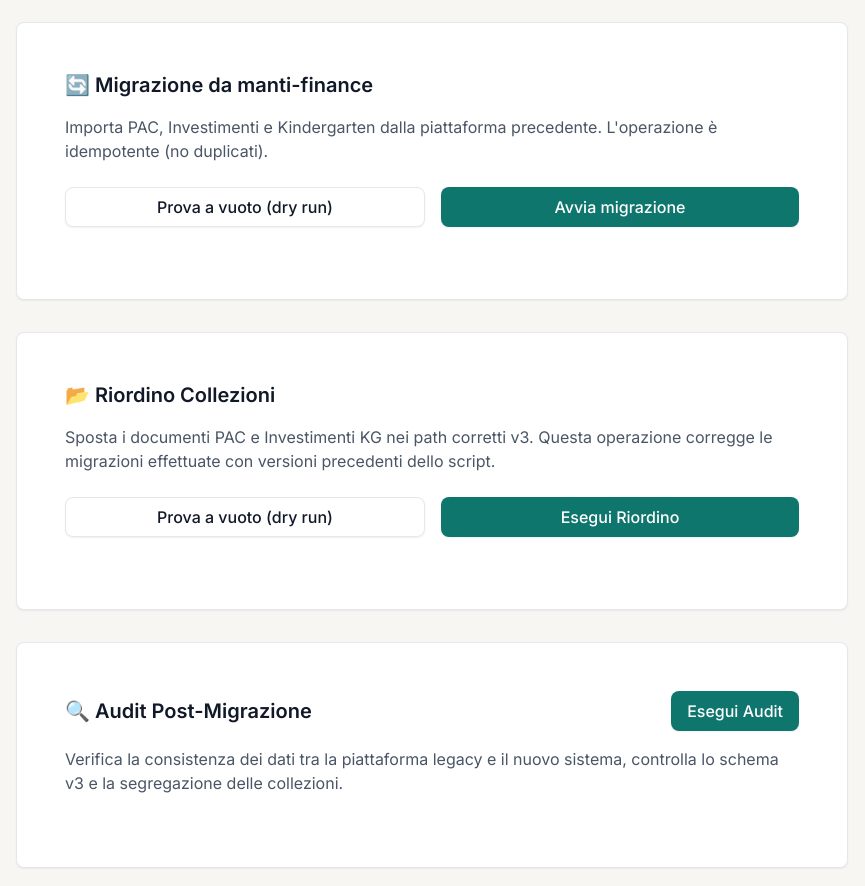
Test: AdminPage › runs migration audit and displays result
(page scrolled)
Click the button "Esegui Audit" at (735, 711), box 671,691 -> 799,731
(page scrolled)
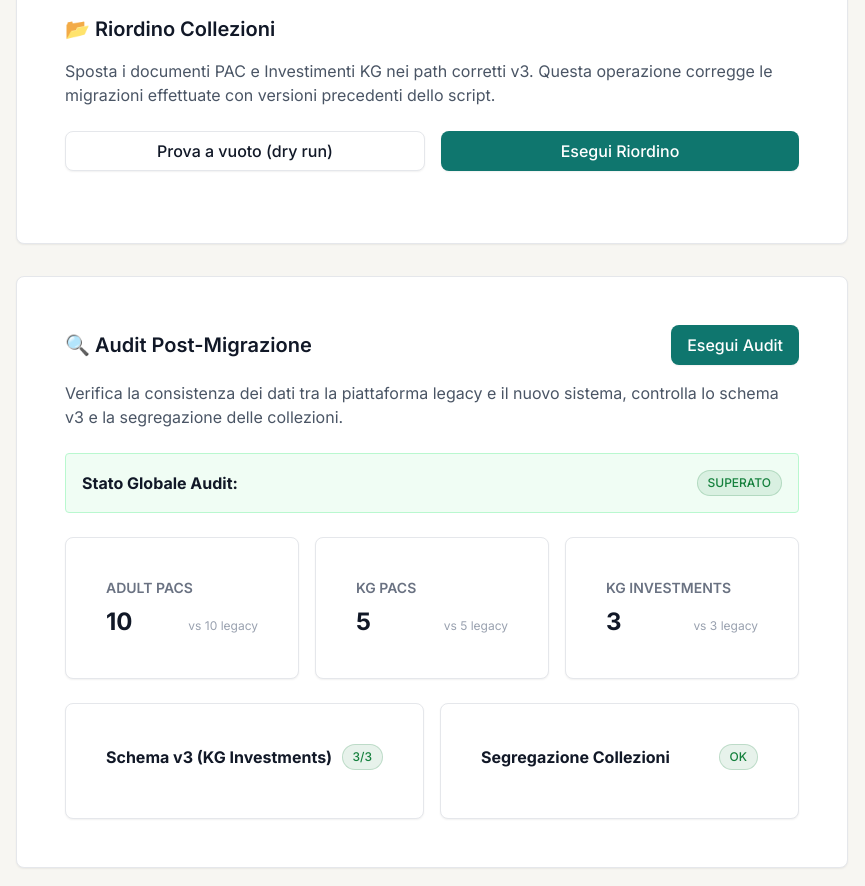
Result: the text "Stato Globale Audit:" is shown at 82,471 -> 238,495
Result: the text "SUPERATO" is shown at 696,470 -> 782,496
Result: the text "10" is shown at 106,606 -> 132,638
